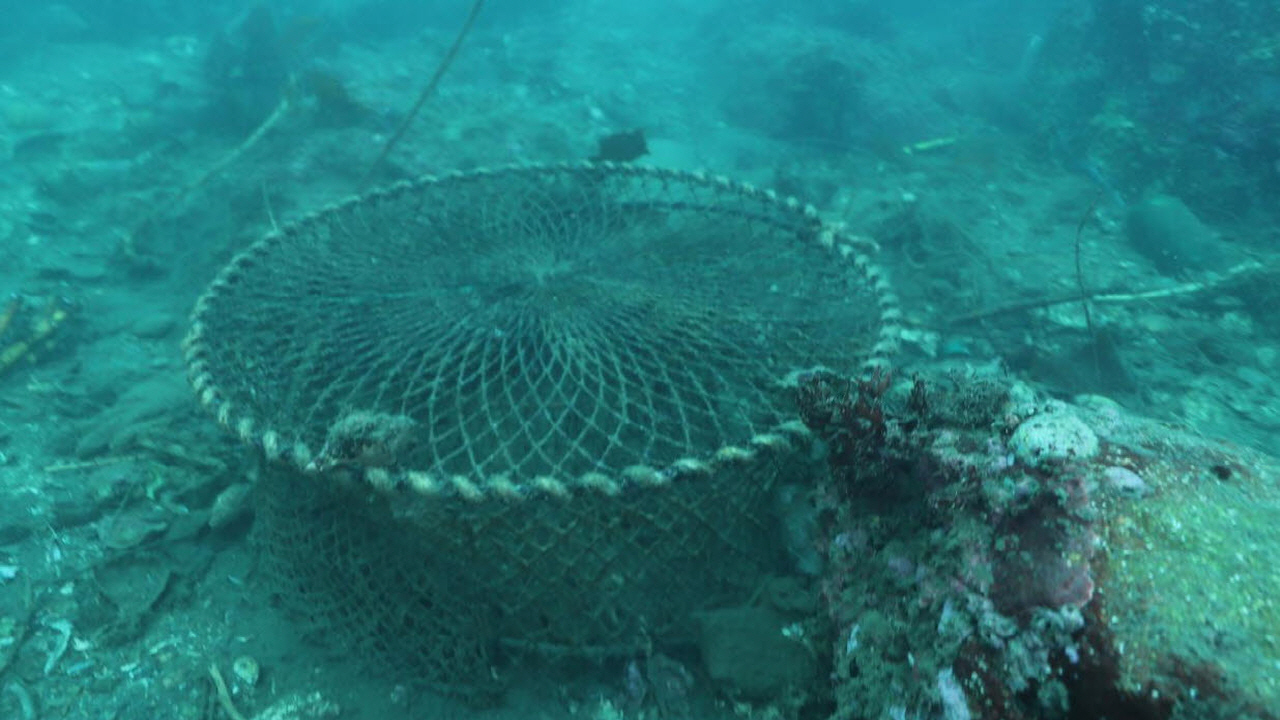circular fish trap: (188, 159, 901, 696)
